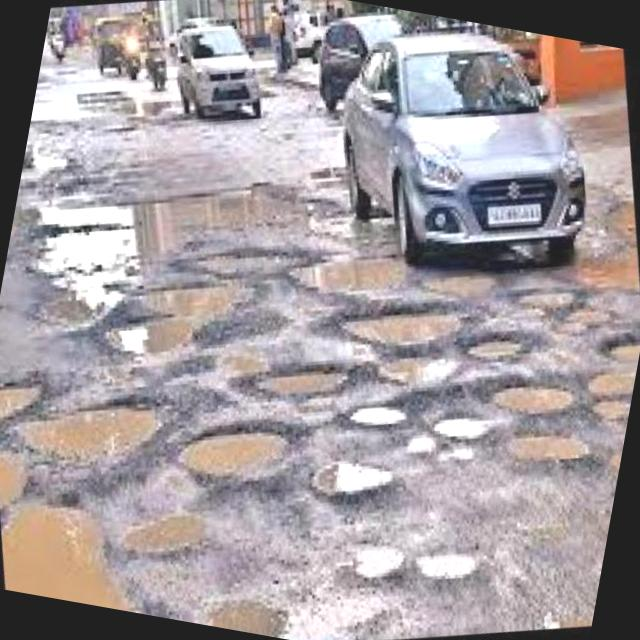Pathole: (59, 236, 230, 337), (2, 531, 123, 610), (33, 410, 154, 454), (187, 447, 276, 486), (347, 314, 460, 342), (302, 262, 394, 293), (267, 359, 335, 398), (237, 412, 296, 452), (496, 387, 572, 415), (510, 434, 588, 461)
